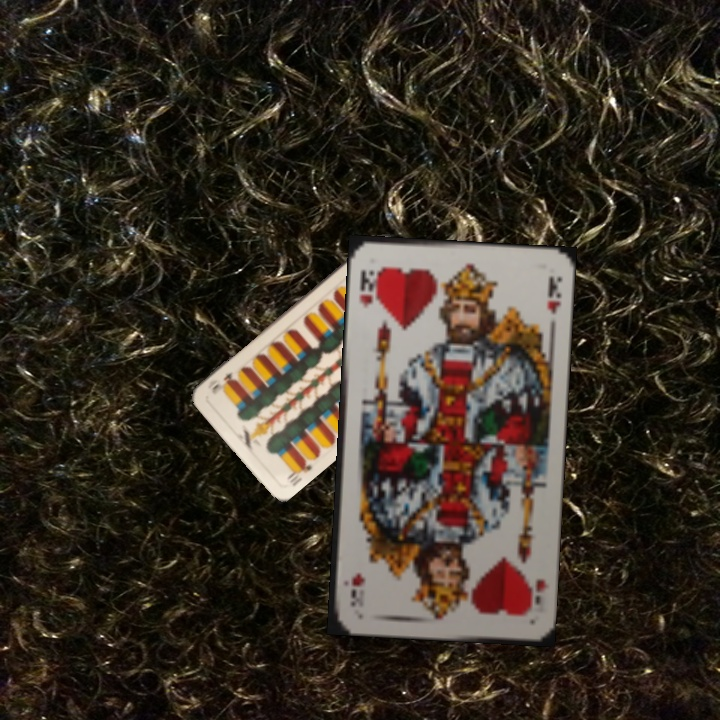E10: (283, 455, 315, 489)
HK: (521, 575, 550, 618), (355, 265, 381, 311)
